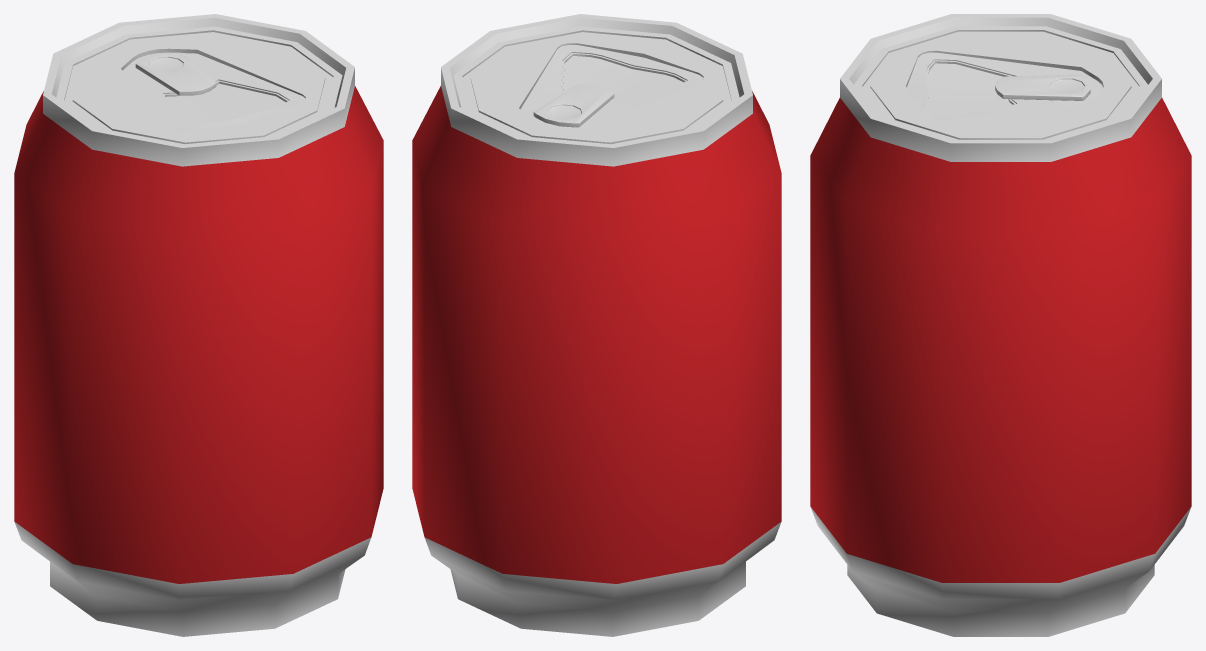
Rendered from SodaCan.fbx.
3 renders of one model, left to right at view 1: azimuth 30°, elevation 25°; view 2: azimuth 150°, elevation 25°; view 3: azimuth 270°, elevation 25°, orthographic.
Visible parts, largest first — view 1: SodaCan; view 2: SodaCan; view 3: SodaCan.
Boxes of the visible parts, x1,y1,x2,y2 form: SodaCan: (14, 14, 383, 636); SodaCan: (412, 14, 781, 636); SodaCan: (810, 14, 1191, 636).
Size of the model in its own units: 236 by 358 by 248.
